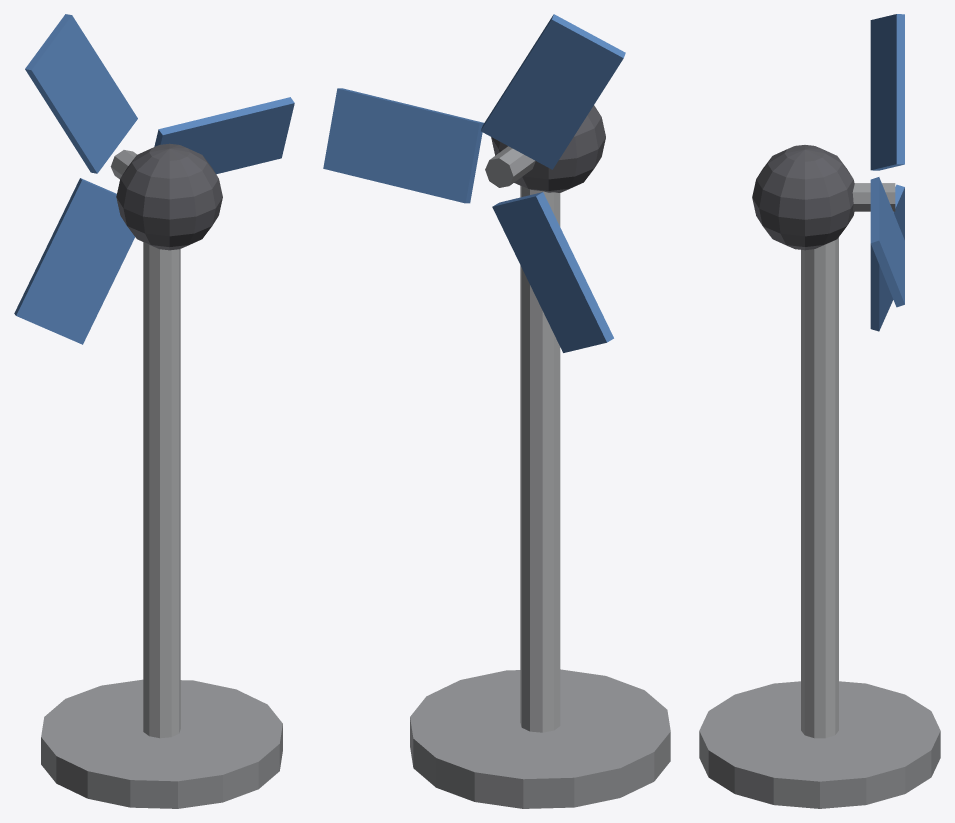
The model's file is elet_ventilador.glb.
3 renders of one model, left to right at view 1: azimuth 30°, elevation 25°; view 2: azimuth 150°, elevation 25°; view 3: azimuth 270°, elevation 25°, orthographic. The views are drawn at different scales.
Visible parts, largest first — view 1: ELET_Ventilador_v01; view 2: ELET_Ventilador_v01; view 3: ELET_Ventilador_v01.
Boxes of the visible parts, <box> form: ELET_Ventilador_v01: <box>14,14,294,808</box>; ELET_Ventilador_v01: <box>323,14,670,808</box>; ELET_Ventilador_v01: <box>699,14,940,808</box>.
Size of the model in its own units: 0.4025 by 1.05 by 0.32.
